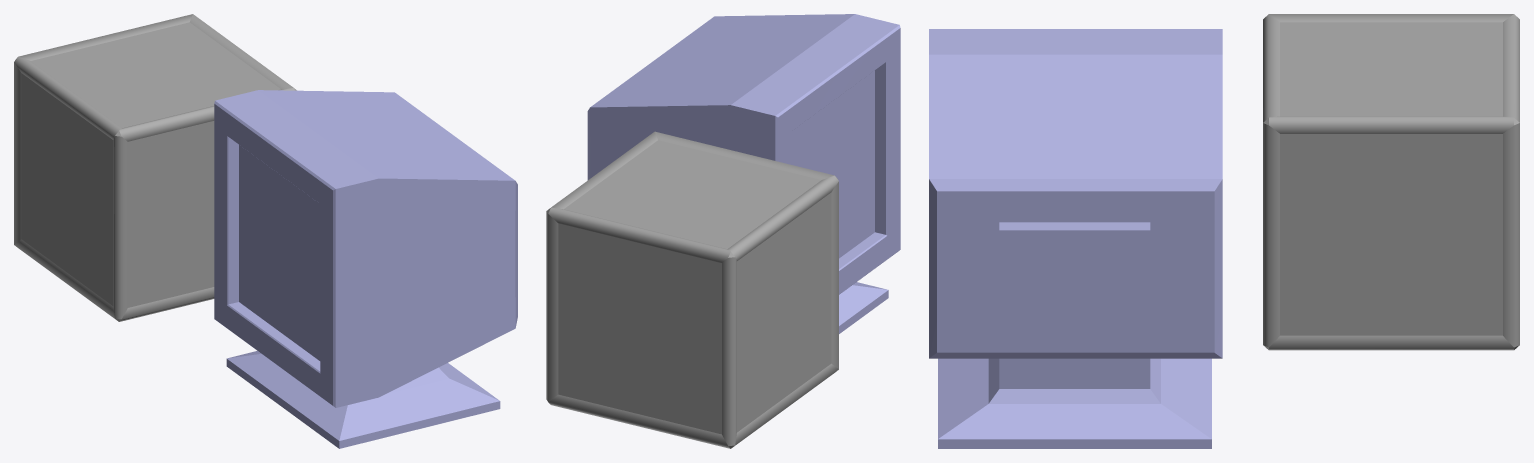
The picture shows the model from 3 angles, left to right: view 1: azimuth 30°, elevation 25°; view 2: azimuth 150°, elevation 25°; view 3: azimuth 270°, elevation 25°; orthographic projection. The views are drawn at different scales.
Visible parts, largest first — view 1: pCube2, pCube1; view 2: pCube1, pCube2; view 3: pCube2, pCube1.
Part boxes in pixels (x1,y1,x2,y2): pCube2: (214, 90, 517, 448); pCube1: (14, 14, 296, 321); pCube1: (546, 131, 838, 448); pCube2: (587, 14, 900, 333); pCube2: (929, 29, 1222, 448); pCube1: (1263, 14, 1519, 350).
Bounding box in the file's own units: 4.54 × 4.09 × 6.83.
